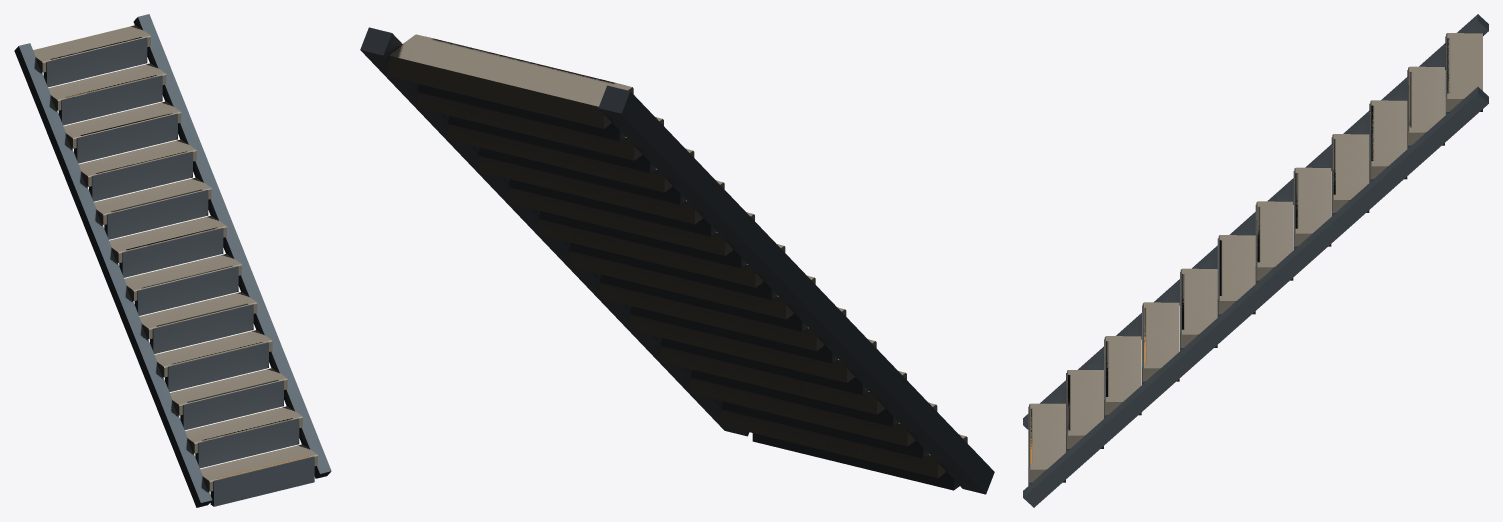
Rendered from 0-20261016-1900-ev009-r01-lobby-staircase_baked.glb.
3 renders of one model, left to right at view 1: azimuth 30°, elevation 25°; view 2: azimuth 150°, elevation 25°; view 3: azimuth 270°, elevation 25°, orthographic. The views are drawn at different scales.
Parts seen in each view (by area): view 1: SW_Lobby_Staircase; view 2: SW_Lobby_Staircase; view 3: SW_Lobby_Staircase.
Part boxes in pixels (x1=…): SW_Lobby_Staircase: x1=14, y1=14, x2=331, y2=507; SW_Lobby_Staircase: x1=360, y1=27, x2=994, y2=494; SW_Lobby_Staircase: x1=1023, y1=14, x2=1488, y2=507.
Size of the model in its own units: 1.69 by 4.11 by 4.18.
Materials: 1 (1 with a texture image).
